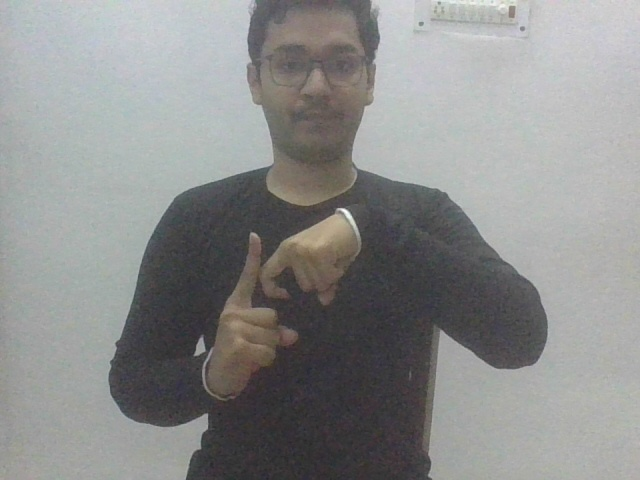K: (192, 208, 367, 406)
